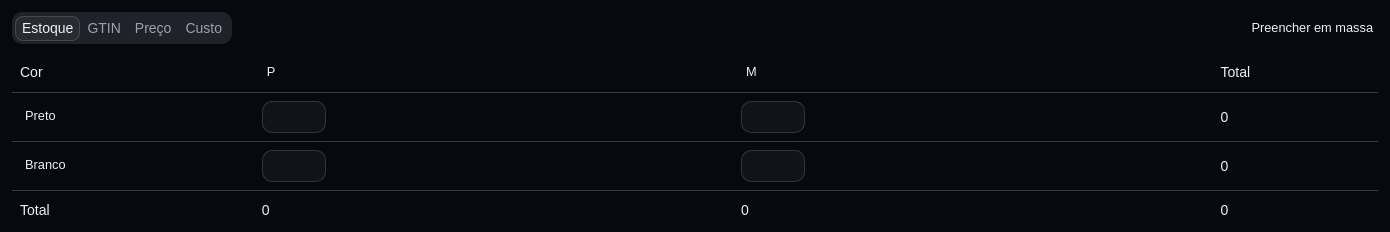
MatrizGrade — modos › as 4 abas trocam o campo editado, mantendo a mesma matriz
What coordinates should you click on to do the following:
click the button "GTIN"
I would click on:
 (104, 28)
Its box is [80,16,128,40].
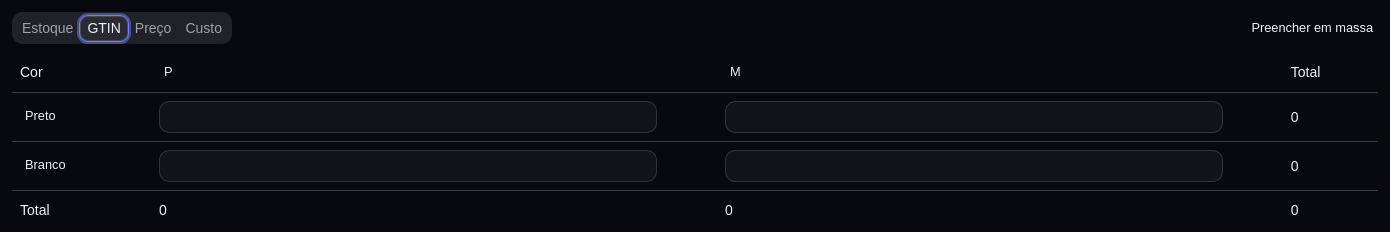
Expected: the field named "GTIN de Preto · P" is shown, [159,100,657,132]
What coordinates should you click on to do the following:
click the button "Preço"
I would click on:
 (153, 28)
Its box is [128,16,178,40].
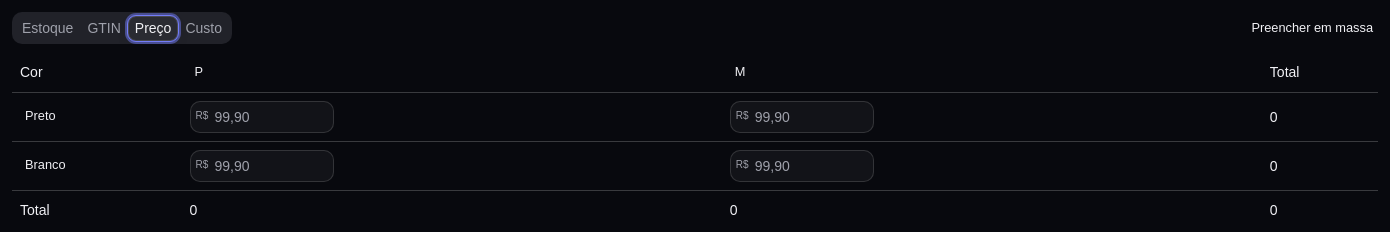
Expected: the field named "Preço mínimo (líquido) de Preto · P" is shown, [190,100,334,132]
What coordinates should you click on to do the following:
click the button "Custo"
I would click on:
 (204, 28)
Its box is [178,16,229,40].
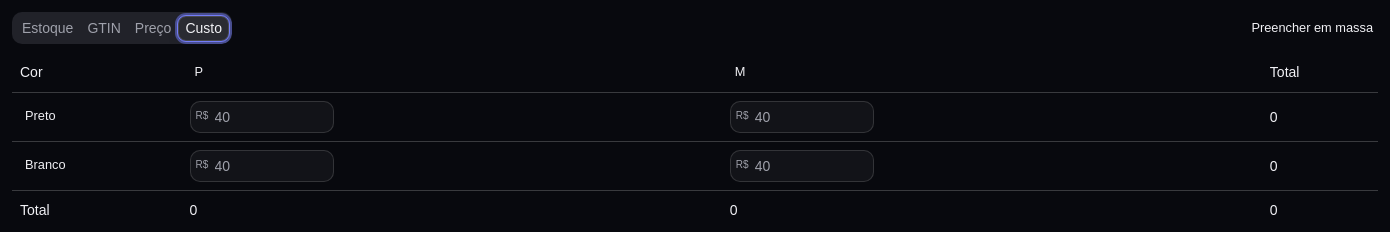
Expected: the field named "Custo de Preto · P" is shown, [190,100,334,132]
